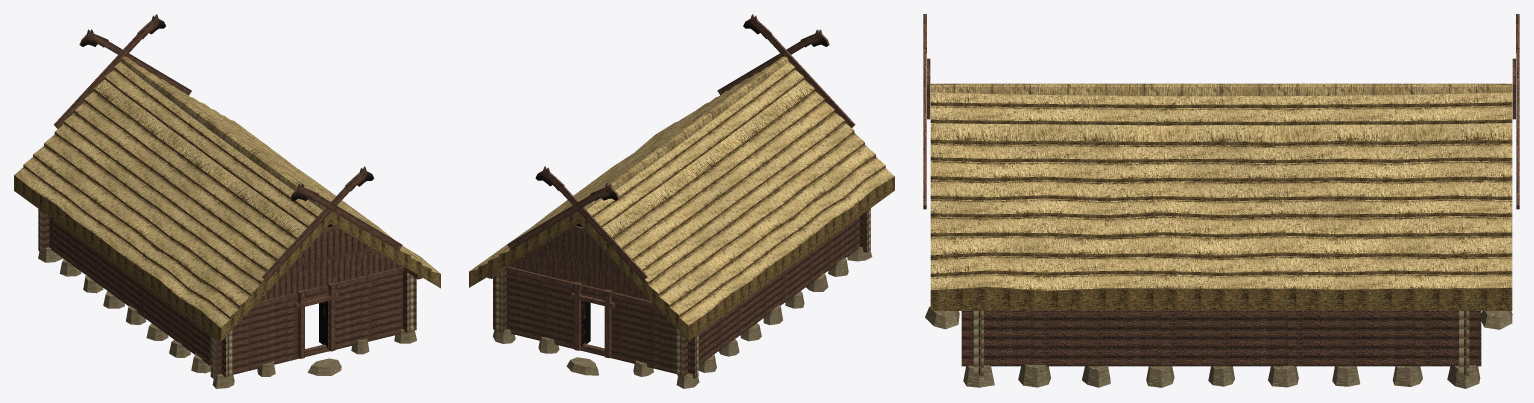
Rendered from dvorec-srub.glb.
3 renders of one model, left to right at view 1: azimuth 30°, elevation 25°; view 2: azimuth 150°, elevation 25°; view 3: azimuth 270°, elevation 25°, orthographic. The views are drawn at different scales.
Visible parts, largest first — view 1: dvorec-srub; view 2: dvorec-srub; view 3: dvorec-srub.
Boxes of the visible parts, x1,y1,x2,y2 form: dvorec-srub: [14, 14, 440, 388]; dvorec-srub: [469, 14, 894, 388]; dvorec-srub: [923, 14, 1519, 388].
Size of the model in its own units: 7.5 by 6.51 by 12.51.
Materials: 1 (1 with a texture image).
